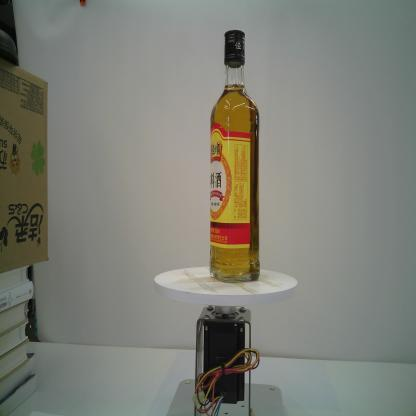Seasoner: (210, 28, 260, 282)
